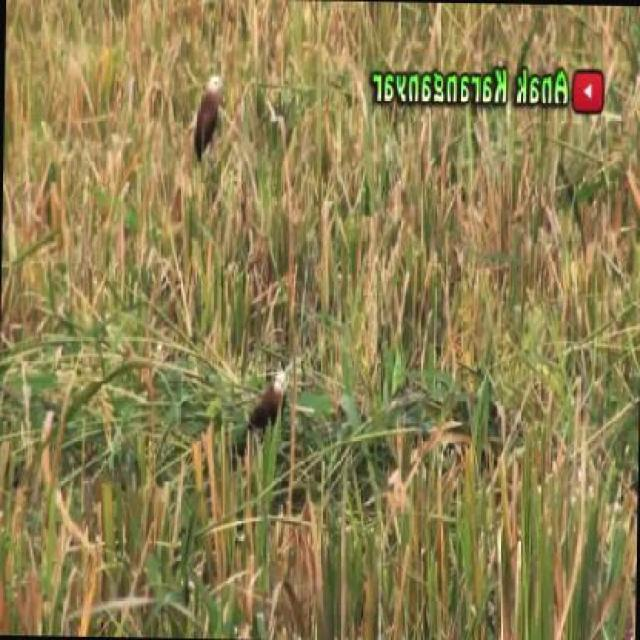Bird: (246, 361, 299, 448), (188, 63, 228, 165)
